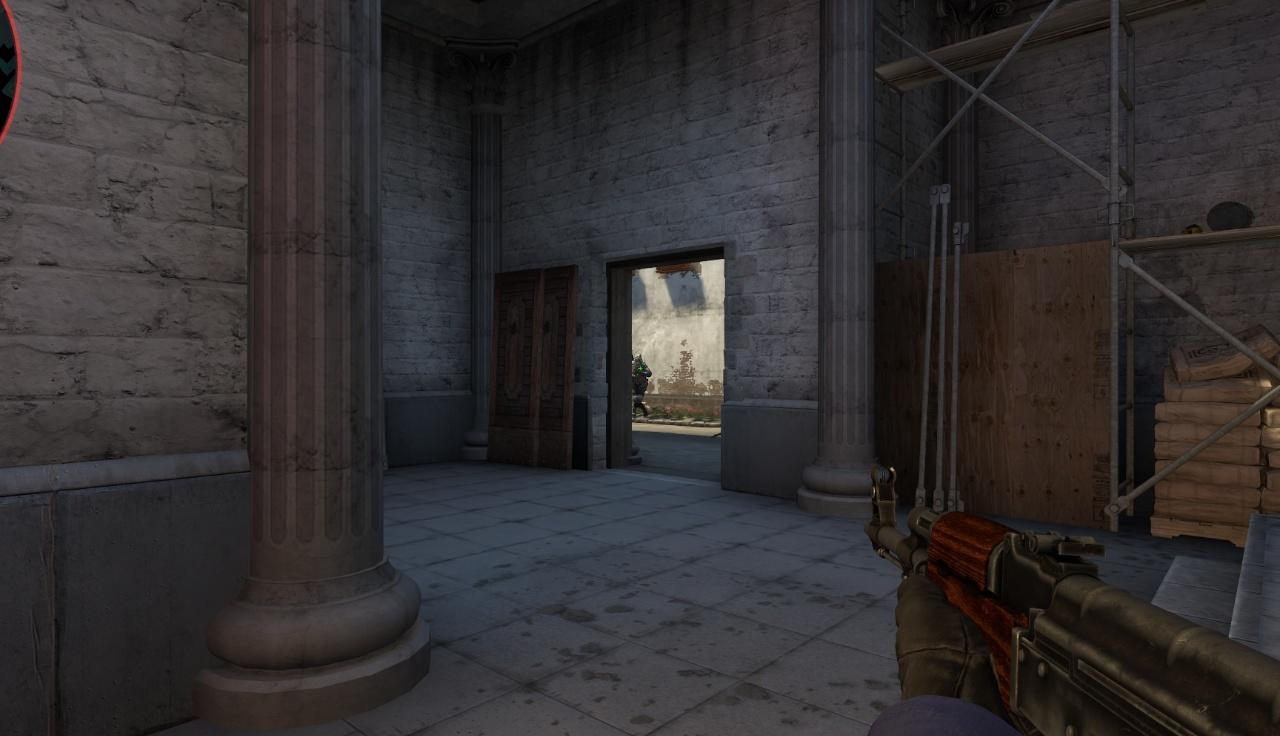ct: (632, 353, 653, 417)
cthead: (633, 353, 644, 364)
rifle: (861, 472, 1278, 733)
